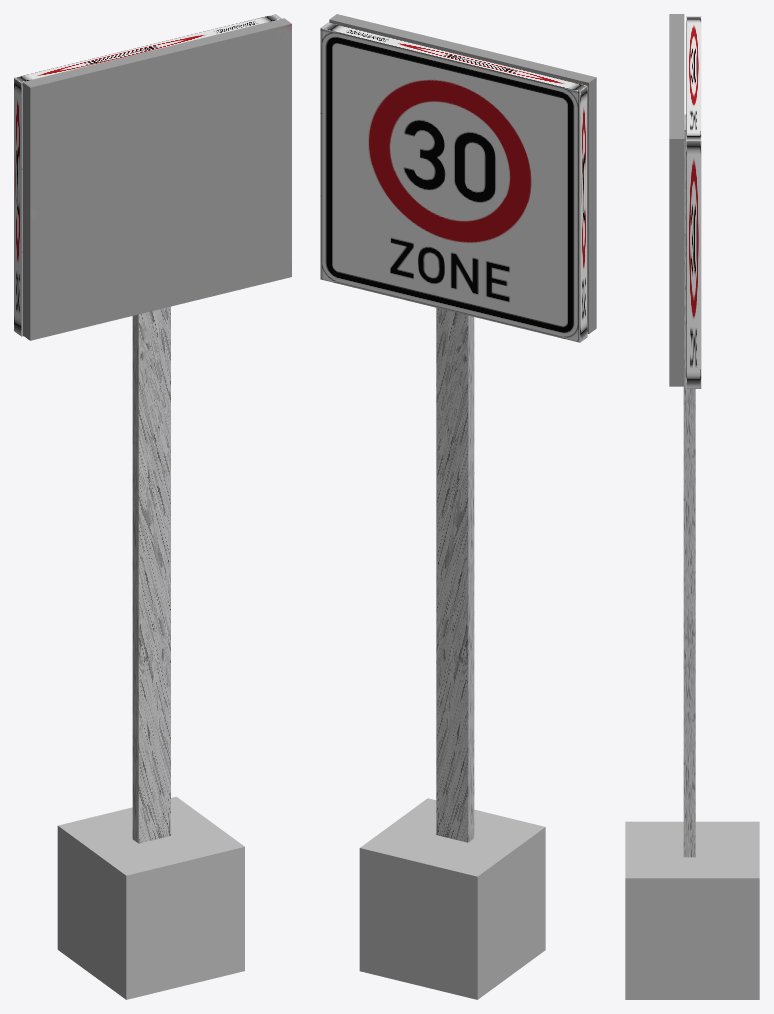
The model's file is SpeedLimit.obj.
3 views of the same model, side by side, from view 1: azimuth 30°, elevation 25°; view 2: azimuth 150°, elevation 25°; view 3: azimuth 270°, elevation 25° (orthographic). The views are drawn at different scales.
Parts seen in each view (by area): view 1: Cube_Cube.002, Cube, STOPALLM_1, Cube_Cube.001; view 2: Cube_Cube.001, Cube, STOPALLM_1, Cube_Cube.002; view 3: Cube, STOPALLM_1, Cube_Cube.001, Cube_Cube.002.
Part boxes in pixels (left/top/right/bottom): Cube_Cube.002: left=22, top=18, right=291, bottom=340; Cube: left=57, top=796, right=244, bottom=999; STOPALLM_1: left=132, top=306, right=170, bottom=843; Cube_Cube.001: left=14, top=14, right=281, bottom=336; Cube_Cube.001: left=320, top=22, right=587, bottom=342; Cube: left=359, top=798, right=545, bottom=999; STOPALLM_1: left=436, top=308, right=474, bottom=842; Cube_Cube.002: left=329, top=14, right=596, bottom=333; Cube: left=625, top=821, right=759, bottom=999; STOPALLM_1: left=683, top=114, right=695, bottom=857; Cube_Cube.001: left=686, top=16, right=701, bottom=388; Cube_Cube.002: left=669, top=14, right=684, bottom=386.
Bounding box in the file's own units: 4.41 × 14.71 × 2.
Materials: 4 (3 with a texture image).
